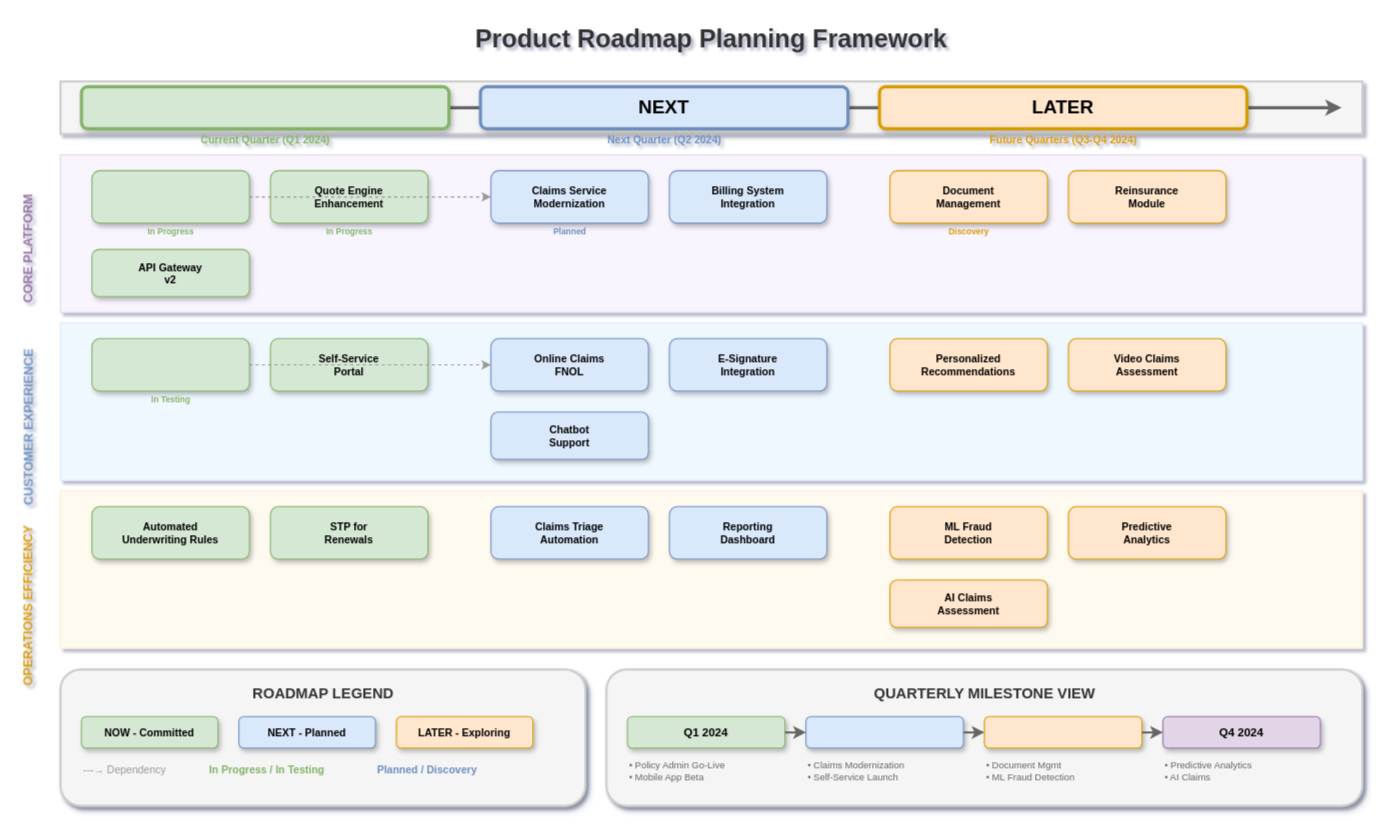
This 1393x838 diagram has some shape labels left out. The centre of each missing label's shape, as x and y in pixels:
Mobile App v1.0 Launch: the point at 171,365
NOW: the point at 265,108
Policy Admin Microservice: the point at 171,197
Q2 2024: the point at 885,733
Q3 2024: the point at 1063,733
